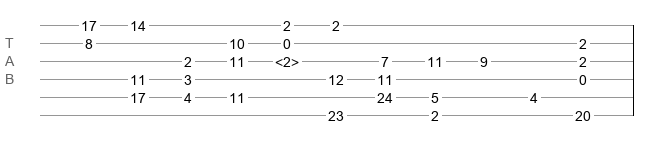0: (283, 36, 291, 46), (579, 72, 587, 82)
10: (229, 36, 245, 46)
11: (130, 72, 146, 82), (229, 90, 245, 100), (229, 54, 245, 64), (377, 72, 393, 82), (427, 54, 443, 64)
12: (328, 72, 344, 82)
14: (130, 18, 146, 28)
17: (81, 18, 97, 28), (130, 90, 146, 100)
2: (184, 54, 192, 64), (283, 18, 291, 28), (332, 18, 340, 28), (431, 108, 439, 118), (579, 36, 587, 46), (579, 54, 587, 64)
20: (575, 108, 591, 118)
23: (328, 108, 344, 118)
24: (377, 90, 393, 100)
3: (184, 72, 192, 82)
4: (184, 90, 192, 100), (530, 90, 538, 100)
5: (431, 90, 439, 100)
7: (381, 54, 389, 64)
8: (85, 36, 93, 46)
9: (480, 54, 488, 64)
harmonic: (275, 54, 299, 64)
